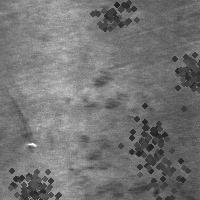rolled-in_scale: (70, 68, 159, 198), (113, 108, 181, 176), (129, 136, 197, 200), (82, 0, 146, 45), (3, 157, 61, 200), (165, 45, 200, 97), (94, 4, 115, 31)
